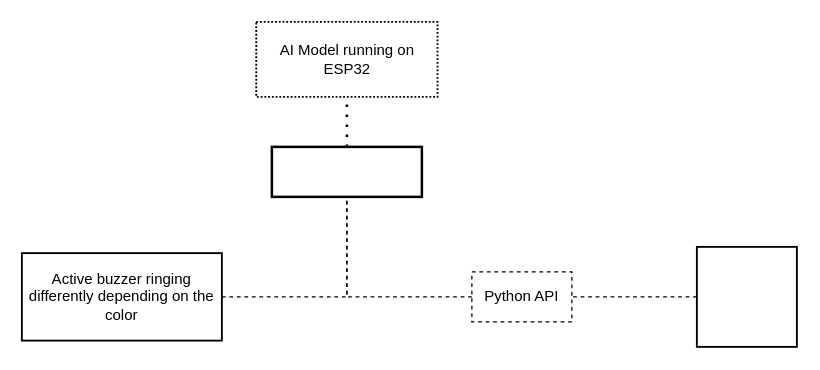
Some shapes in this 820 by 370 pixel diagram are drawn without their labels. The shapes that lost their labels are listed below. From the top down, each one's centre as x and y in pixels, then its label:
At (346,171): "ESP32 + Cam".
At (746,296): "iOS Application".
